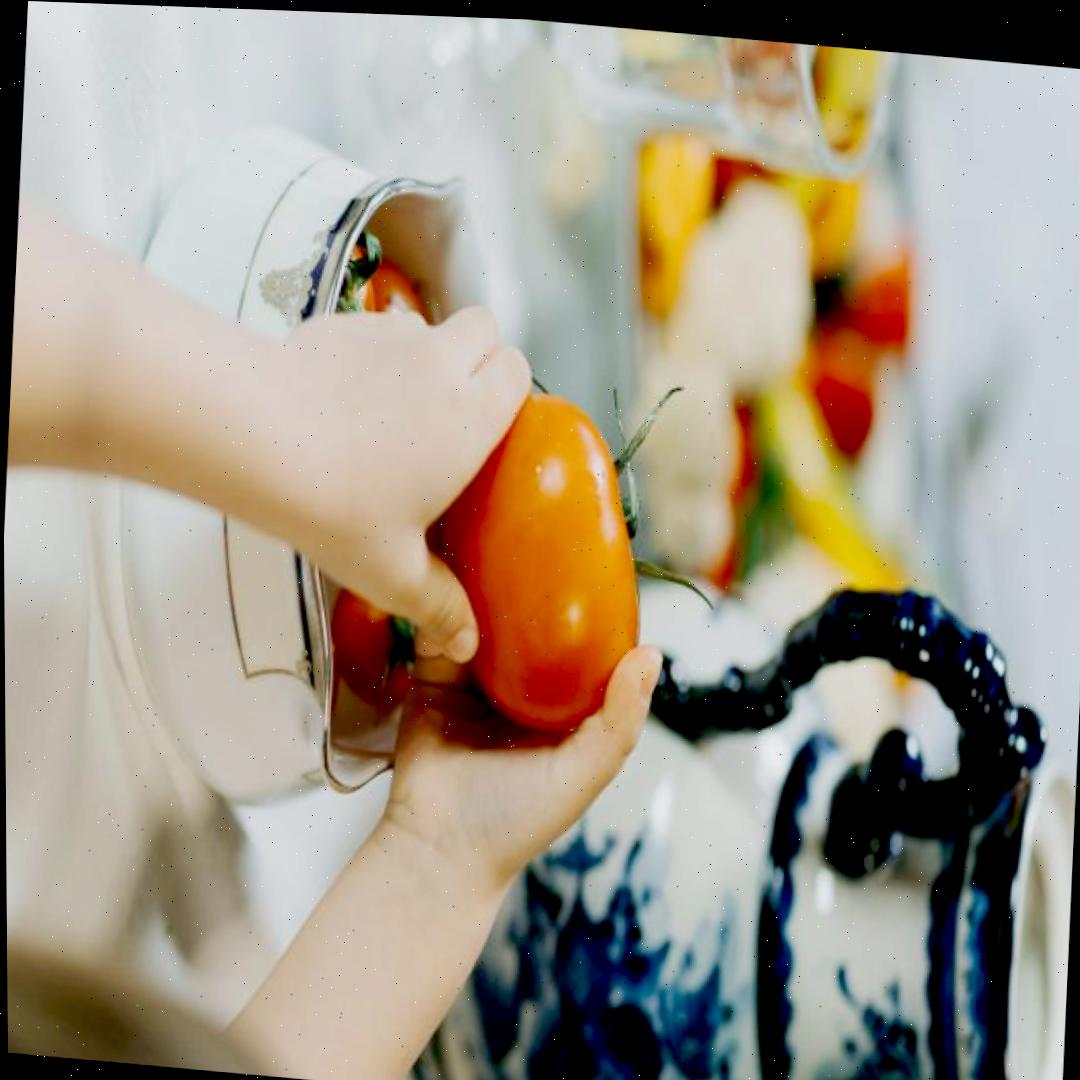matang: (431, 381, 653, 741)
